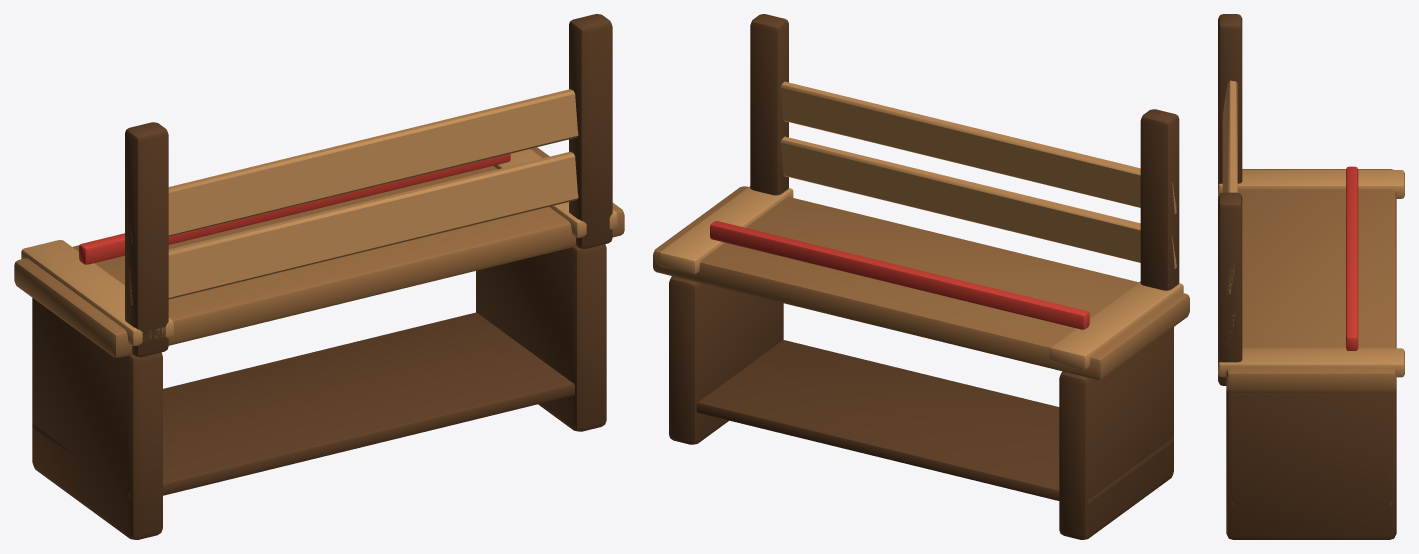
Rendered from DeckBench.glb.
3 views of the same model, side by side, from view 1: azimuth 30°, elevation 25°; view 2: azimuth 150°, elevation 25°; view 3: azimuth 270°, elevation 25° (orthographic). The views are drawn at different scales.
Visible parts, largest first — view 1: DeckBench; view 2: DeckBench; view 3: DeckBench.
Part boxes in pixels (box(x1,y1,x2,y2)): DeckBench: box(14, 14, 624, 539); DeckBench: box(653, 14, 1189, 539); DeckBench: box(1218, 14, 1404, 539).
Bounding box in the file's own units: 1.2 × 0.92 × 0.46.
